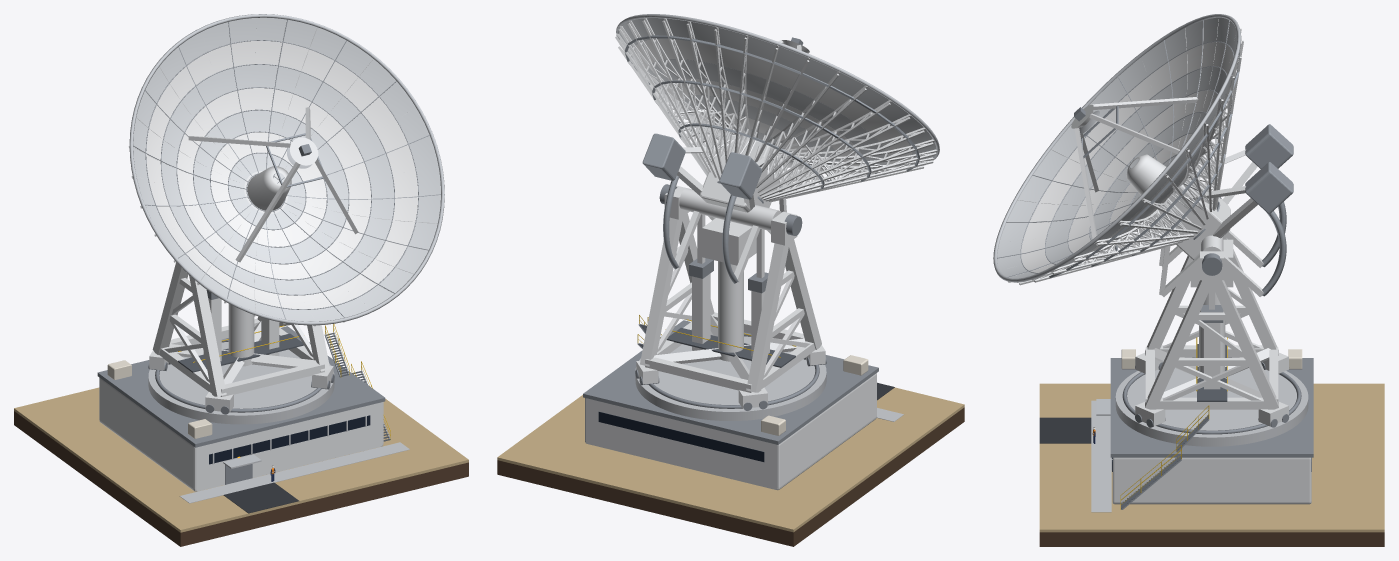
File: ground-dsn.glb
The picture shows the model from 3 angles, left to right: view 1: azimuth 30°, elevation 25°; view 2: azimuth 150°, elevation 25°; view 3: azimuth 270°, elevation 25°; orthographic projection. The views are drawn at different scales.
Visible parts, largest first — view 1: dish-surface-dish_white_alt, dish-surface-dish_white, site, alidade-panel_white, building, dish-seams-panel_seam, site-soil, track-ring, building-coping, dish-seams-aluminium, dish-feed-panel_white, apron (+5 smaller); view 2: site, alidade-panel_white, dish-backstructure-panel_white, building, dish-surface-dish_white_alt, site-soil, dish-surface-dish_white, track-ring, building-coping, dish-backstructure-steel_grey, el-housing, facade-window_dark (+9 smaller); view 3: site, alidade-panel_white, dish-surface-dish_white_alt, dish-surface-dish_white, building, dish-backstructure-panel_white, track-ring, building-coping, site-soil, dish-feed-panel_white, dish-seams-aluminium, dish-seams-panel_seam (+11 smaller).
Boxes of the visible parts, x1,y1,x2,y2 form: dish-surface-dish_white_alt: [133, 17, 440, 321]; dish-surface-dish_white: [146, 40, 418, 309]; site: [14, 387, 468, 532]; alidade-panel_white: [149, 262, 333, 412]; building: [99, 377, 383, 491]; dish-seams-panel_seam: [133, 19, 440, 319]; site-soil: [14, 411, 468, 546]; track-ring: [148, 342, 334, 424]; building-coping: [97, 326, 385, 447]; dish-seams-aluminium: [129, 14, 444, 325]; dish-feed-panel_white: [188, 107, 358, 262]; apron: [179, 442, 409, 503]; site: [497, 387, 964, 532]; alidade-panel_white: [636, 185, 825, 408]; dish-backstructure-panel_white: [615, 17, 937, 201]; building: [585, 373, 876, 490]; dish-surface-dish_white_alt: [619, 18, 935, 169]; site-soil: [497, 407, 964, 546]; dish-surface-dish_white: [634, 38, 912, 169]; track-ring: [635, 336, 826, 420]; building-coping: [583, 320, 878, 444]; dish-backstructure-steel_grey: [625, 35, 919, 203]; el-housing: [700, 134, 785, 212]; facade-window_dark: [598, 412, 764, 461]; site: [1039, 383, 1384, 532]; alidade-panel_white: [1135, 199, 1288, 426]; dish-surface-dish_white_alt: [997, 17, 1237, 278]; dish-surface-dish_white: [1021, 42, 1233, 272]; building: [1112, 457, 1311, 504]; dish-backstructure-panel_white: [1006, 19, 1243, 285]; track-ring: [1115, 357, 1308, 446]; building-coping: [1110, 358, 1313, 457]; site-soil: [1039, 532, 1384, 546]; dish-feed-panel_white: [1071, 97, 1198, 238]; dish-seams-aluminium: [993, 14, 1241, 282]; dish-seams-panel_seam: [997, 20, 1234, 277].
Size of the model in its own units: 34.41 by 47.65 by 38.55.
